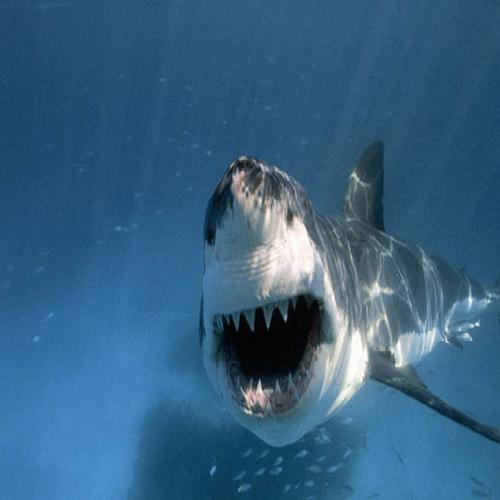shark-endangered: (188, 136, 500, 443)
